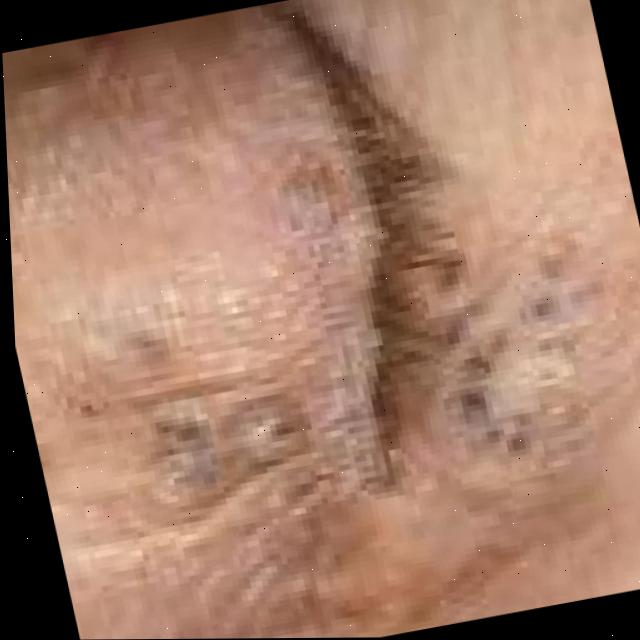Melasma: (389, 194, 640, 506)
